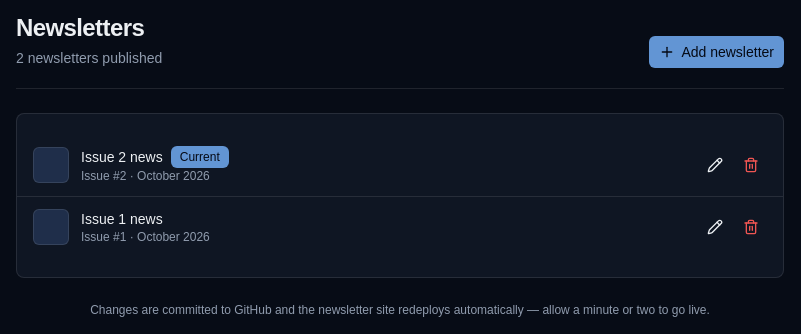
Scenario: Newsletter updater › deleting an issue takes it off the list without reloading it
Step 1. Click the button named "Delete" in the row of "Issue 2 news" → (751, 165), box [735,149,767,181]
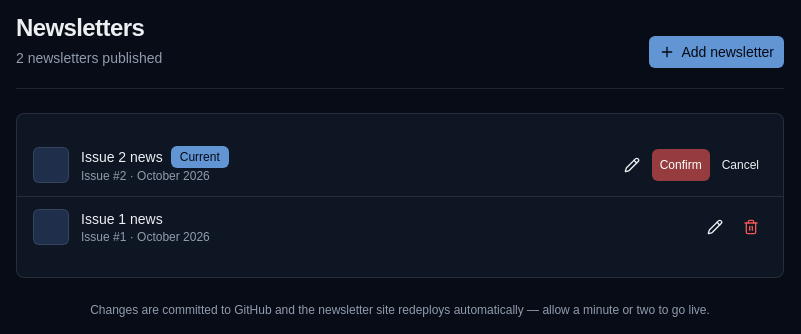
Step 2. Click the button "Confirm" → (681, 165), box [652,149,710,181]
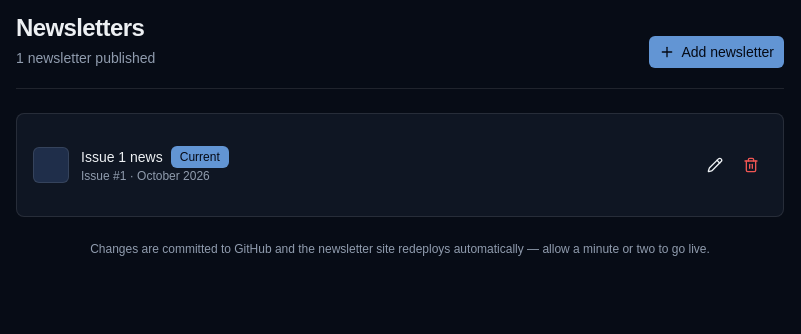
Expected: the text "Issue 1 news" is shown, [81,147,163,167]
Result: the text "Issue 2 news" is gone
